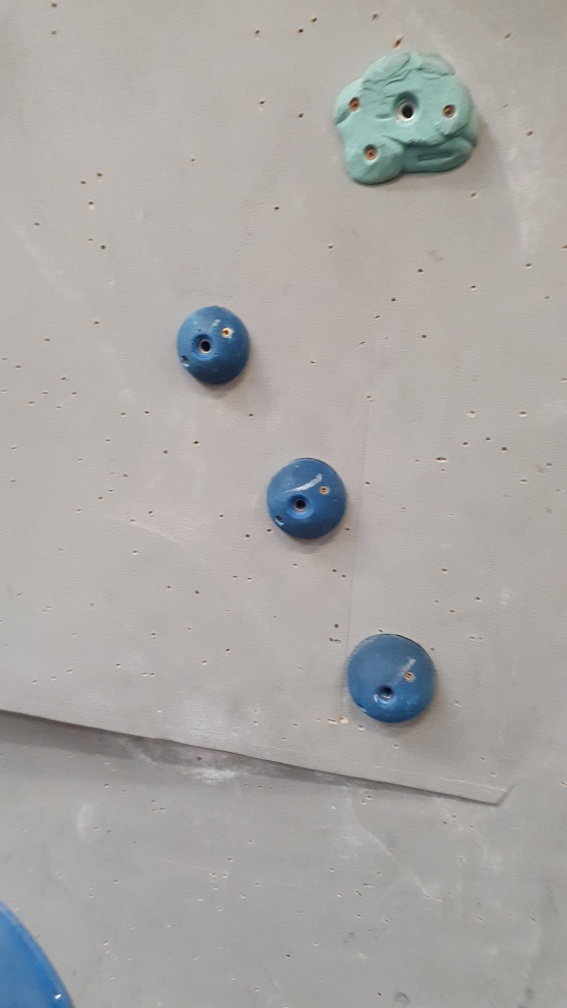Sloper: (343, 629, 441, 730), (261, 448, 352, 545), (171, 304, 260, 392)
